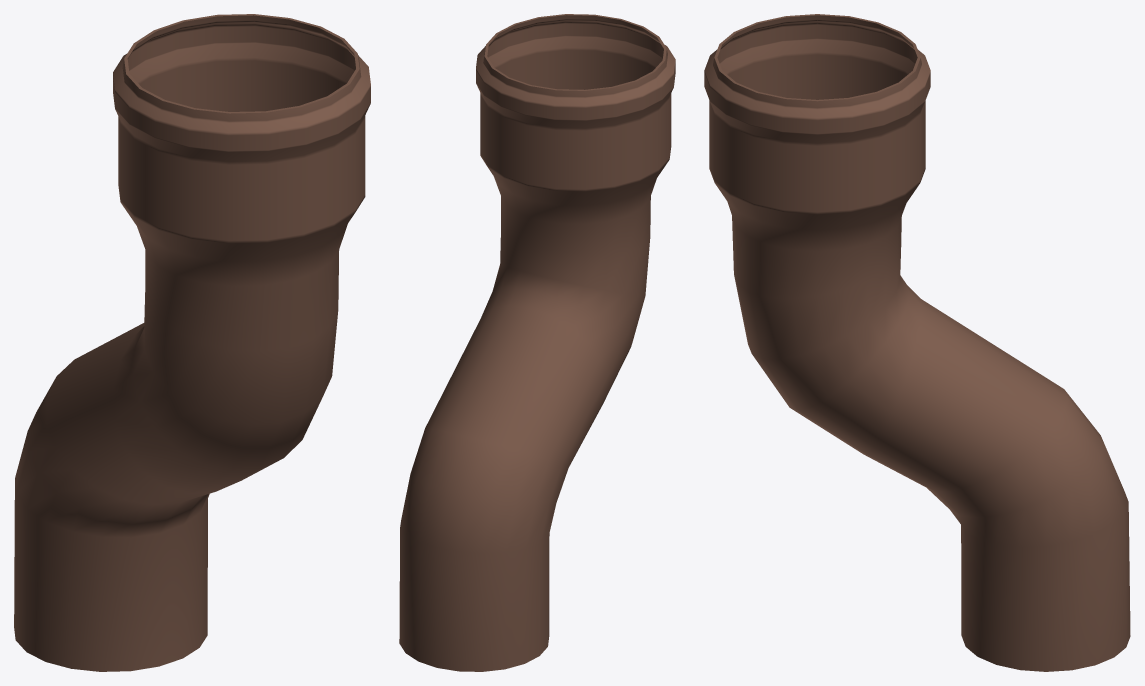
File: pipes_Down_Kink.fbx
3 renders of one model, left to right at view 1: azimuth 30°, elevation 25°; view 2: azimuth 150°, elevation 25°; view 3: azimuth 270°, elevation 25°, orthographic. The views are drawn at different scales.
Visible parts, largest first — view 1: pCylinder28; view 2: pCylinder28; view 3: pCylinder28.
Part boxes in pixels (x1,y1,x2,y2): pCylinder28: [14, 14, 370, 671]; pCylinder28: [399, 14, 675, 671]; pCylinder28: [704, 14, 1130, 671].
Bounding box in the file's own units: 0.2171 × 0.6131 × 0.409.
